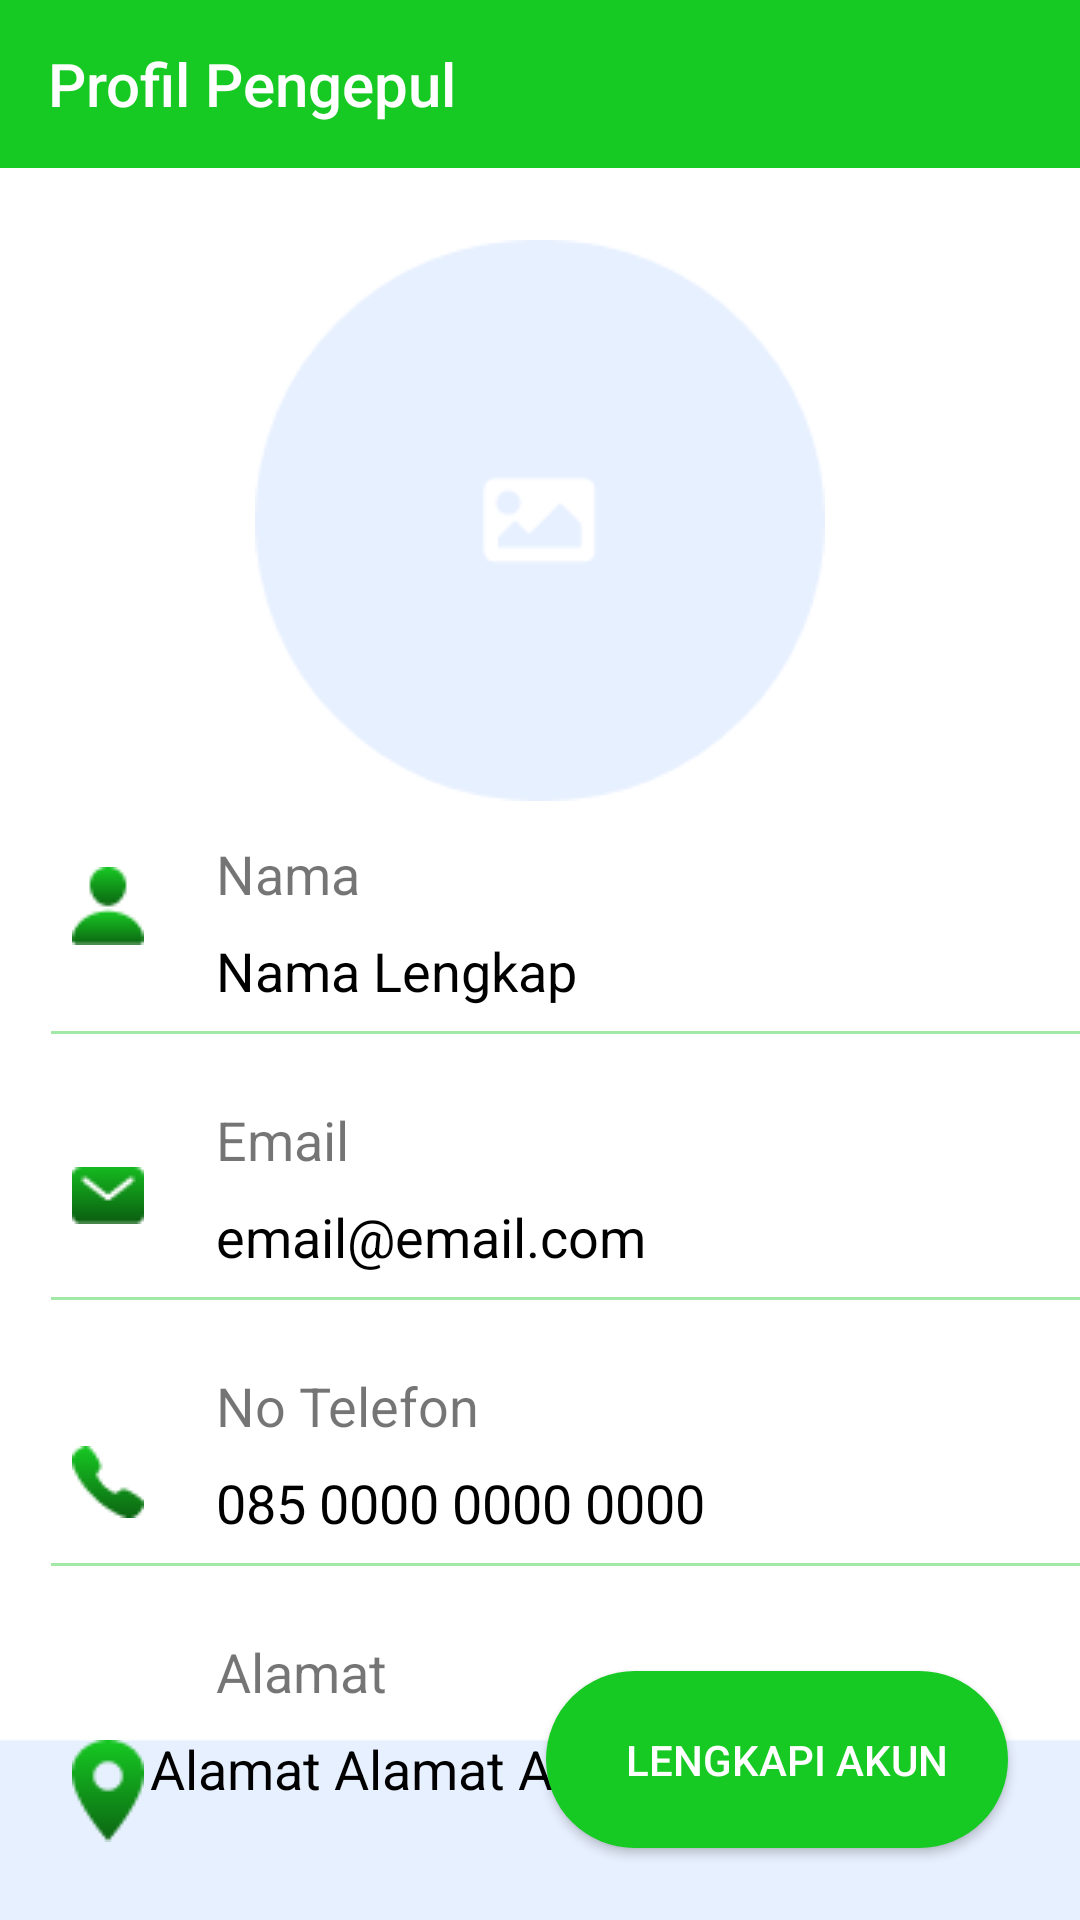

Where icons sit on this 1080*1920 app screen, as (x1, y1, x2, y2):
call sharp: (72, 1446, 144, 1518)
location sharp: (72, 1740, 144, 1842)
mail sharp: (72, 1167, 144, 1224)
person sharp: (72, 867, 144, 945)
